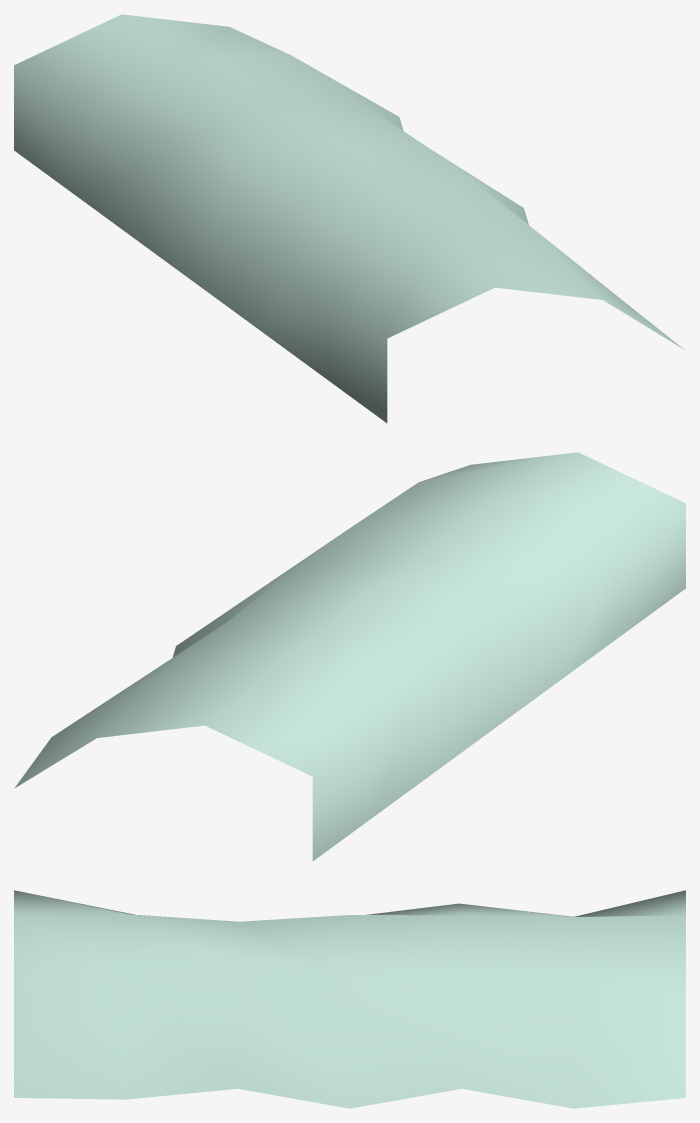
The model's file is snow-line-v2.glb.
The picture shows the model from 3 angles, top to bottom: view 1: azimuth 30°, elevation 25°; view 2: azimuth 150°, elevation 25°; view 3: azimuth 270°, elevation 25°; orthographic projection. The views are drawn at different scales.
Visible parts, largest first — view 1: SnowLine_v2; view 2: SnowLine_v2; view 3: SnowLine_v2.
Boxes of the visible parts, bbox=[...] form: SnowLine_v2: bbox=[14, 14, 684, 423]; SnowLine_v2: bbox=[14, 452, 685, 861]; SnowLine_v2: bbox=[14, 890, 685, 1108].
Bounding box in the file's own units: 100 × 32.87 × 200.
Materials: 1 (1 with a texture image).
